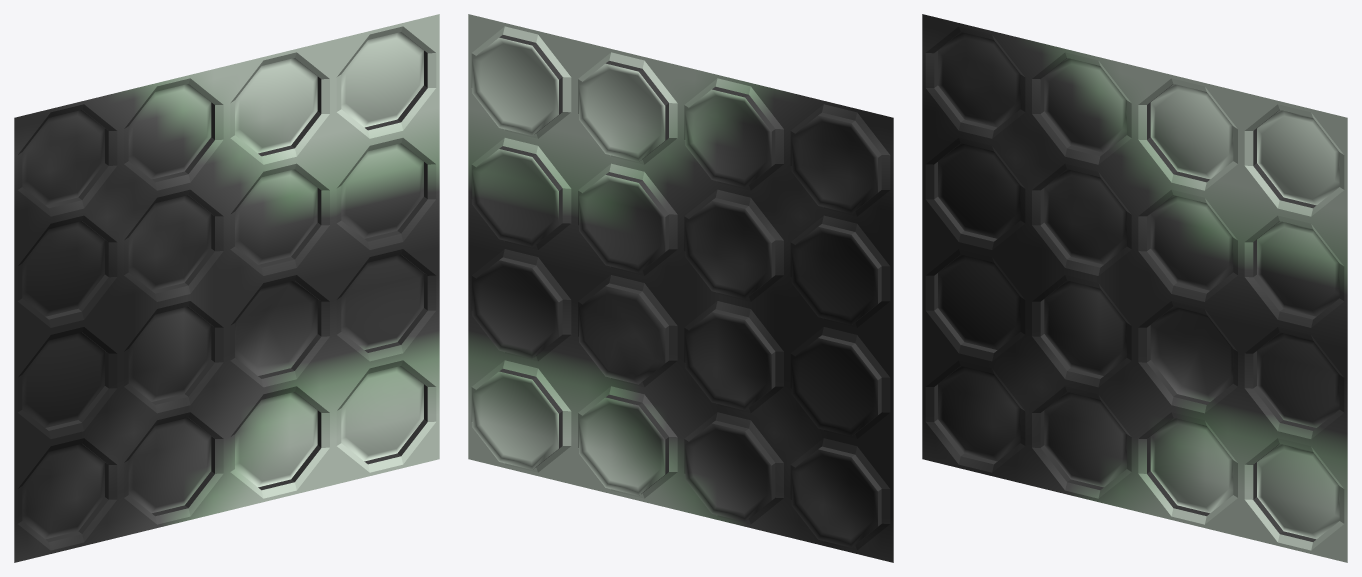
The model's file is sci2_5d.fbx.
3 renders of one model, left to right at view 1: azimuth 30°, elevation 25°; view 2: azimuth 150°, elevation 25°; view 3: azimuth 330°, elevation 25°, orthographic.
Parts seen in each view (by area): view 1: sci2_5_mesh; view 2: sci2_5_mesh; view 3: sci2_5_mesh.
Boxes of the visible parts, left/top/right/bottom form: sci2_5_mesh: left=14, top=14, right=439, bottom=562; sci2_5_mesh: left=468, top=14, right=893, bottom=562; sci2_5_mesh: left=922, top=14, right=1347, bottom=562.
Bounding box in the file's own units: 256 × 256 × 11.63.
